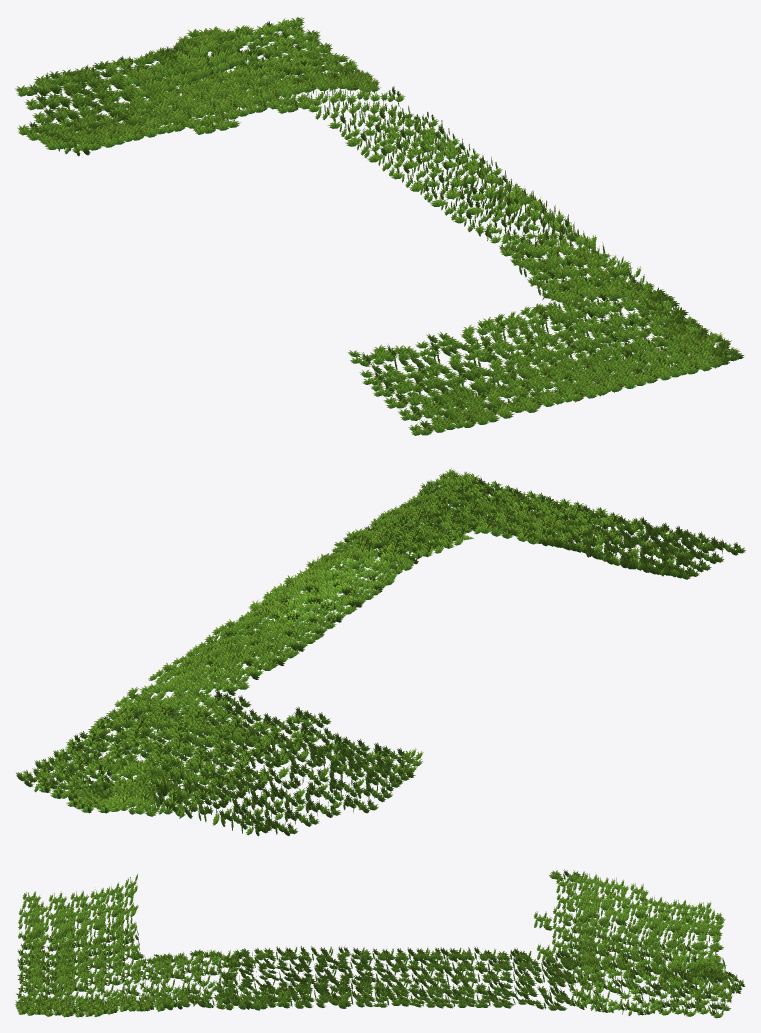
The model's file is pastito_patio.glb.
3 renders of one model, top to bottom at view 1: azimuth 30°, elevation 25°; view 2: azimuth 150°, elevation 25°; view 3: azimuth 270°, elevation 25°, orthographic. The views are drawn at different scales.
Parts seen in each view (by area): view 1: pastito patio 1, pastito patio 2; view 2: pastito patio 1, pastito patio 2; view 3: pastito patio 1, pastito patio 2.
Part boxes in pixels (x1=…): pastito patio 1: x1=15, y1=17, x2=744, y2=435; pastito patio 2: x1=18, y1=17, x2=743, y2=435; pastito patio 1: x1=16, y1=468, x2=745, y2=835; pastito patio 2: x1=18, y1=470, x2=741, y2=835; pastito patio 1: x1=15, y1=869, x2=744, y2=1018; pastito patio 2: x1=16, y1=870, x2=744, y2=1017.
Bounding box in the file's own units: 32.52 × 4 × 77.03.
1 material, 1 textured.
